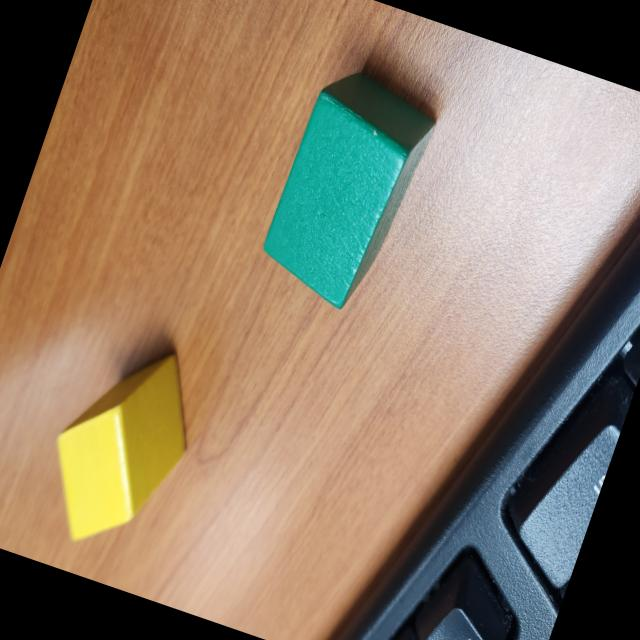green: (250, 59, 444, 322)
yellow: (27, 324, 217, 567)
